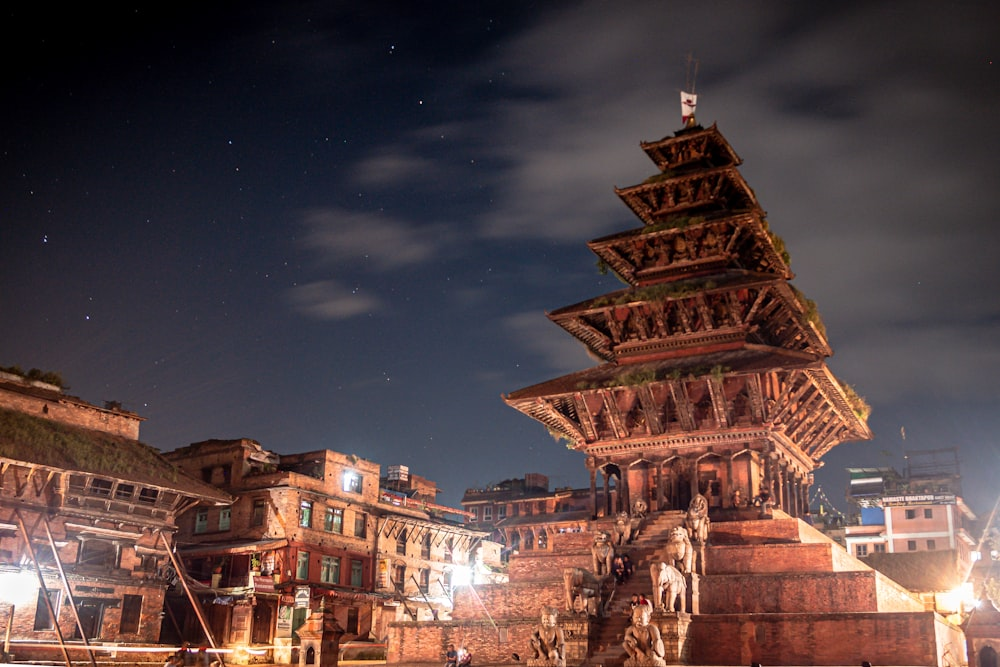nyathapola: (491, 47, 936, 620)
